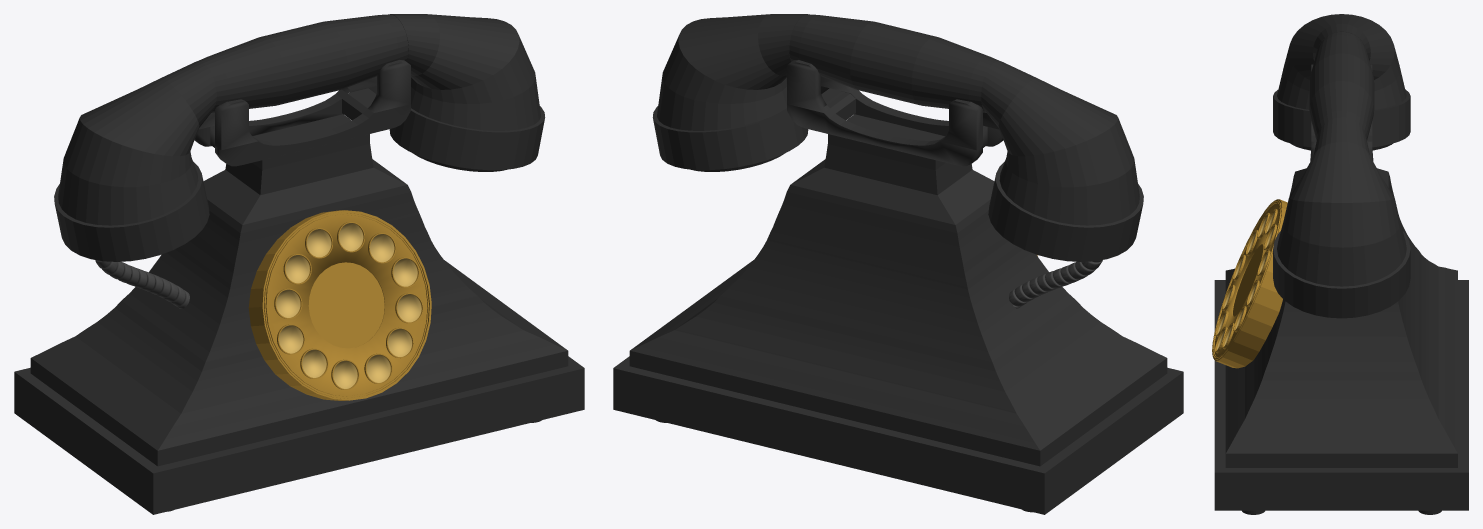
File: squasher3.gltf
The picture shows the model from 3 angles, left to right: view 1: azimuth 30°, elevation 25°; view 2: azimuth 150°, elevation 25°; view 3: azimuth 270°, elevation 25°; orthographic projection. The views are drawn at different scales.
Parts seen in each view (by area): view 1: Telephone; view 2: Telephone; view 3: Telephone.
Part boxes in pixels (x1,y1,x2,y2): Telephone: (14, 14, 584, 514); Telephone: (613, 14, 1183, 514); Telephone: (1212, 14, 1468, 514).
Bounding box in the file's own units: 2.16 × 1.73 × 1.11.
